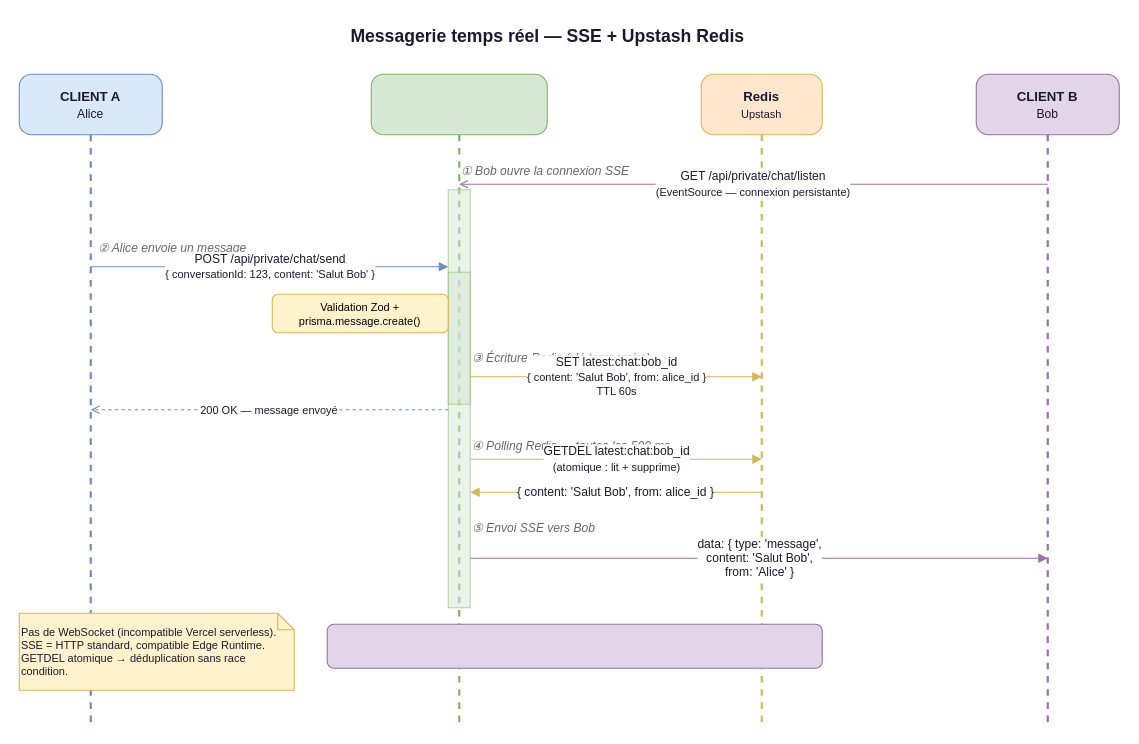
Some shapes in this 1139 by 744 pixel diagram are drawn without their labels. Here are the shapes that lost their labels. From the top down, the centre of each, then its label:
(458,104): NEXT.JS SERVER Route Handlers + SSE
(574,645): ✓ Bob reçoit le message en temps réel (~250 ms de latence)
